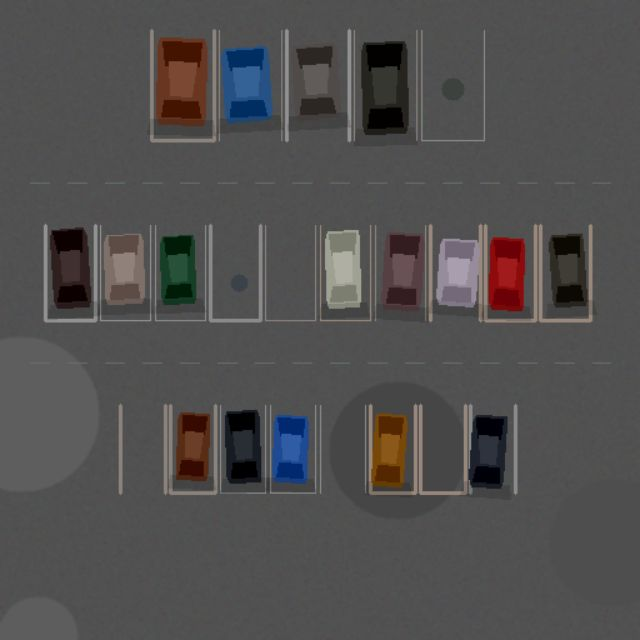space-empty: (421, 30, 484, 140), (210, 225, 260, 320), (265, 225, 315, 320), (120, 405, 165, 493), (320, 405, 365, 493), (420, 405, 465, 493)
space-occupied: (151, 30, 214, 140), (286, 30, 349, 140), (219, 30, 281, 140), (354, 30, 416, 140), (45, 225, 95, 320), (100, 225, 150, 320), (155, 225, 205, 320), (320, 225, 370, 320), (375, 225, 425, 320), (430, 225, 480, 320), (485, 225, 535, 320), (540, 225, 590, 320), (170, 405, 215, 493), (220, 405, 265, 493), (270, 405, 315, 493), (370, 405, 415, 493), (470, 405, 515, 493)
